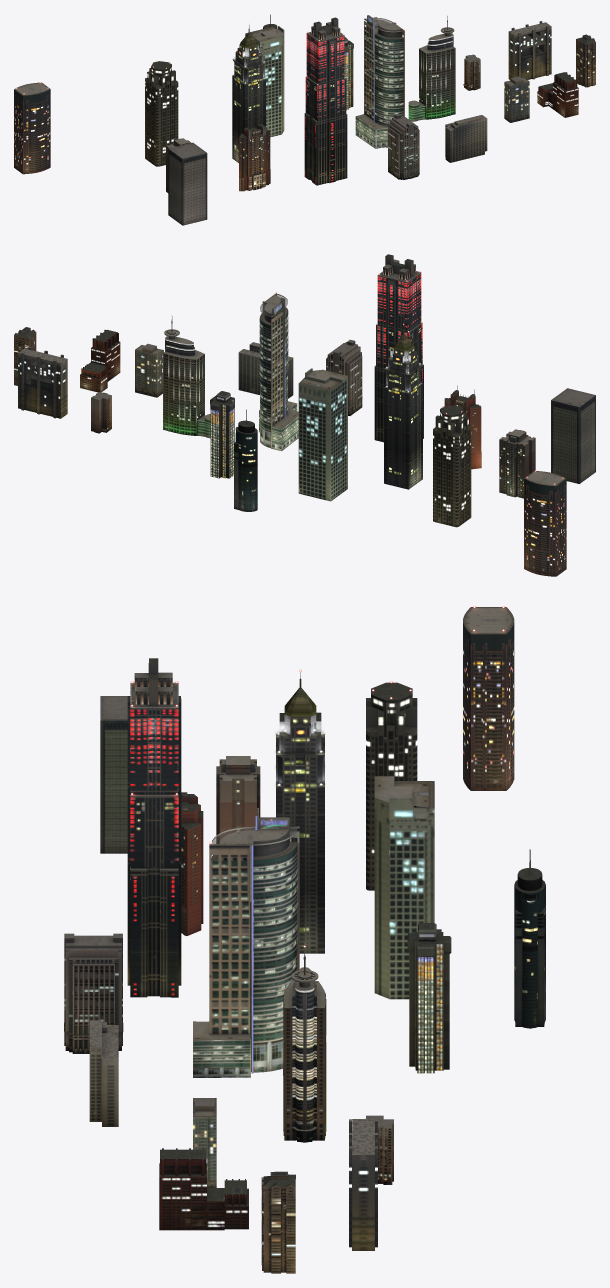
The model's file is asian_themed_low_poly_night_city_buildings.glb.
3 views of the same model, one above another, from view 1: azimuth 30°, elevation 25°; view 2: azimuth 150°, elevation 25°; view 3: azimuth 270°, elevation 25° (orthographic). The views are drawn at different scales.
Visible parts, largest first — view 1: BACKGROUND_BUILDINGS_1.009, BACKGROUND_BUILDING_2, BACKGROUND_BUILDINGS_1, BACKGROUND_BUILDINGS_1.007, BACKGROUND_BUILDING_2.008, BACKGROUND_BUILDINGS_1.008, BACKGROUND_BUILDINGS_1.002, BACKGROUND_BUILDING_2.007, BACKGROUND_BUILDING_2.005, BACKGROUND_BUILDINGS_1.004, BACKGROUND_BUILDING_2.001, BACKGROUND_BUILDING_2.002 (+5 smaller); view 2: BACKGROUND_BUILDING_2.007, BACKGROUND_BUILDINGS_1.008, BACKGROUND_BUILDINGS_1.009, BACKGROUND_BUILDING_2, BACKGROUND_BUILDING_2.008, BACKGROUND_BUILDINGS_1.007, BACKGROUND_BUILDINGS_1, BACKGROUND_BUILDINGS_1.002, BACKGROUND_BUILDING_2.005, BACKGROUND_BUILDINGS_1.001, BACKGROUND_BUILDINGS_1.003, BACKGROUND_BUILDINGS_1.006 (+7 smaller); view 3: BACKGROUND_BUILDING_2, BACKGROUND_BUILDINGS_1.009, BACKGROUND_BUILDING_2.007, BACKGROUND_BUILDINGS_1.007, BACKGROUND_BUILDINGS_1.008, BACKGROUND_BUILDINGS_1, BACKGROUND_BUILDING_2.001, BACKGROUND_BUILDINGS_1.006, BACKGROUND_BUILDING_2.004, BACKGROUND_BUILDING_2.008, BACKGROUND_BUILDINGS_1.001, BACKGROUND_BUILDINGS_1.002 (+7 smaller).
Boxes of the visible parts, x1,y1,x2,y2 form: BACKGROUND_BUILDINGS_1.009: (304,17,347,185); BACKGROUND_BUILDING_2: (355,15,404,148); BACKGROUND_BUILDINGS_1: (408,16,455,121); BACKGROUND_BUILDINGS_1.007: (14,82,50,174); BACKGROUND_BUILDING_2.008: (145,61,178,166); BACKGROUND_BUILDINGS_1.008: (232,25,265,162); BACKGROUND_BUILDINGS_1.002: (168,142,207,225); BACKGROUND_BUILDING_2.007: (245,26,284,137); BACKGROUND_BUILDING_2.005: (508,21,551,80); BACKGROUND_BUILDINGS_1.004: (239,124,270,191); BACKGROUND_BUILDING_2.001: (388,113,419,179); BACKGROUND_BUILDING_2.002: (445,115,487,162); BACKGROUND_BUILDING_2.007: (298,368,347,501); BACKGROUND_BUILDINGS_1.008: (384,325,422,489); BACKGROUND_BUILDINGS_1.009: (374,254,423,442); BACKGROUND_BUILDING_2: (259,293,298,450); BACKGROUND_BUILDING_2.008: (433,405,471,527); BACKGROUND_BUILDINGS_1.007: (524,471,566,576); BACKGROUND_BUILDINGS_1: (163,316,210,438); BACKGROUND_BUILDINGS_1.002: (551,388,595,483); BACKGROUND_BUILDING_2.005: (18,346,67,418); BACKGROUND_BUILDINGS_1.001: (234,409,257,511); BACKGROUND_BUILDINGS_1.003: (499,429,535,498); BACKGROUND_BUILDINGS_1.006: (210,391,234,478); BACKGROUND_BUILDING_2: (193,808,299,1077); BACKGROUND_BUILDINGS_1.009: (127,658,181,997); BACKGROUND_BUILDING_2.007: (374,776,434,999); BACKGROUND_BUILDINGS_1.007: (463,607,514,790); BACKGROUND_BUILDINGS_1.008: (276,672,324,953); BACKGROUND_BUILDINGS_1: (283,947,326,1142); BACKGROUND_BUILDING_2.001: (64,933,123,1053); BACKGROUND_BUILDINGS_1.006: (407,923,451,1073); BACKGROUND_BUILDING_2.004: (159,1148,248,1230); BACKGROUND_BUILDING_2.008: (366,682,417,890); BACKGROUND_BUILDINGS_1.001: (514,849,545,1028); BACKGROUND_BUILDINGS_1.002: (100,696,127,853).
Size of the model in its own units: 1049 by 301 by 419.
4 materials, 4 textured.
